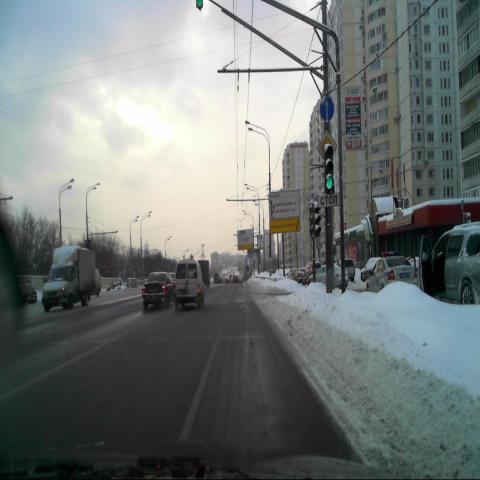4_1_1: (320, 97, 334, 122)
